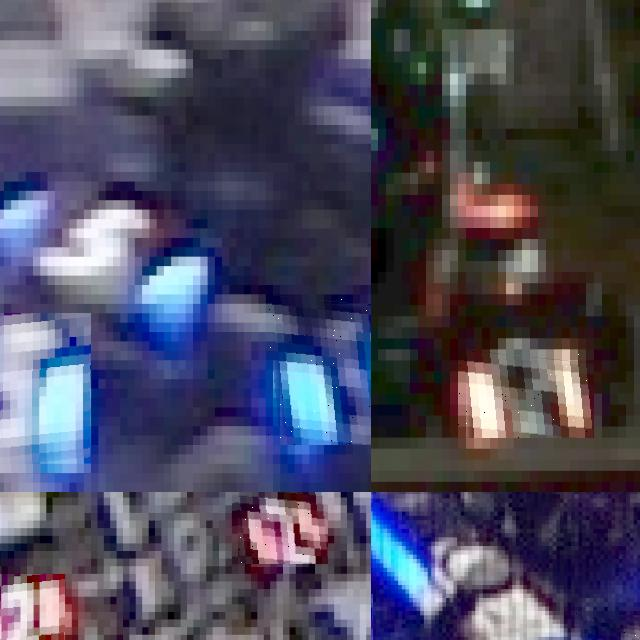B5: (265, 294, 371, 444), (0, 313, 91, 473)
R2: (232, 492, 328, 566), (0, 574, 65, 640)
Rs: (458, 349, 594, 438)
